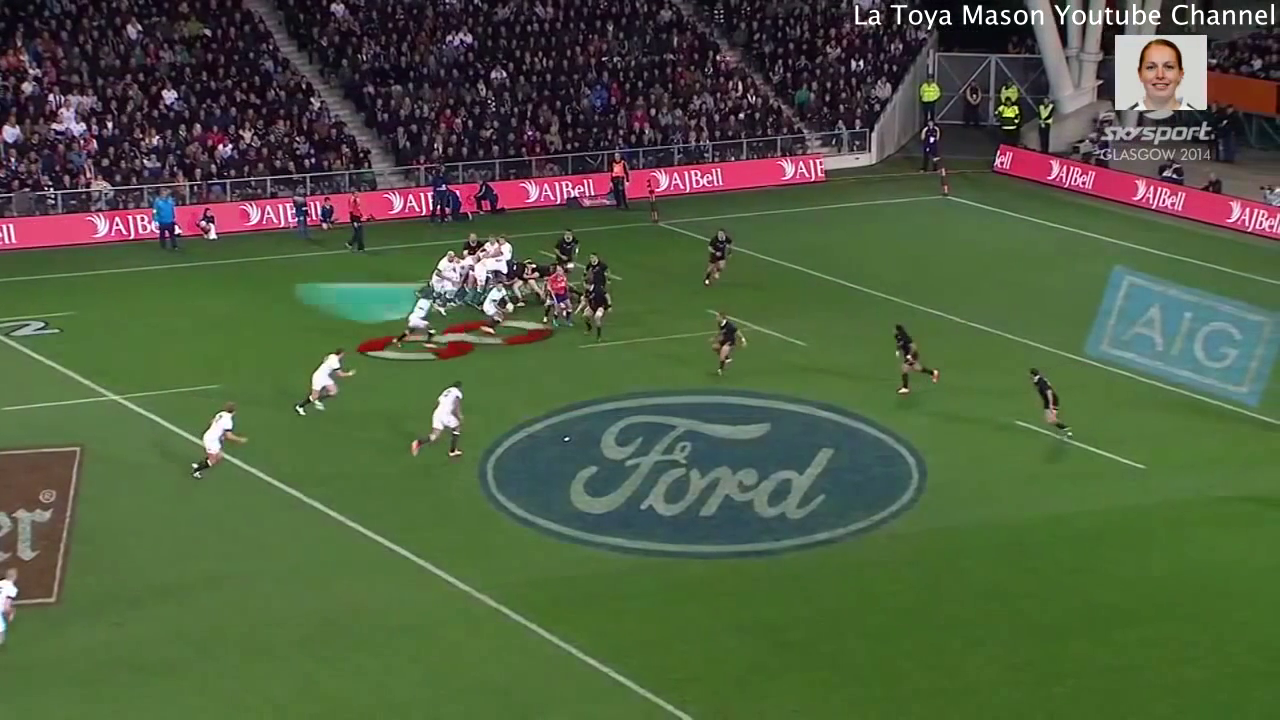player: (408, 373, 471, 466), (293, 348, 359, 427), (1016, 364, 1073, 444), (886, 323, 942, 401), (191, 404, 247, 476), (706, 309, 751, 376), (1, 564, 25, 662), (577, 277, 614, 340), (702, 226, 739, 288), (543, 268, 577, 329), (399, 296, 439, 347), (477, 280, 512, 336), (549, 229, 584, 264), (431, 249, 456, 287), (584, 252, 609, 279), (462, 231, 483, 253), (482, 232, 496, 246), (497, 233, 508, 250)
scrum: (420, 251, 561, 312)
